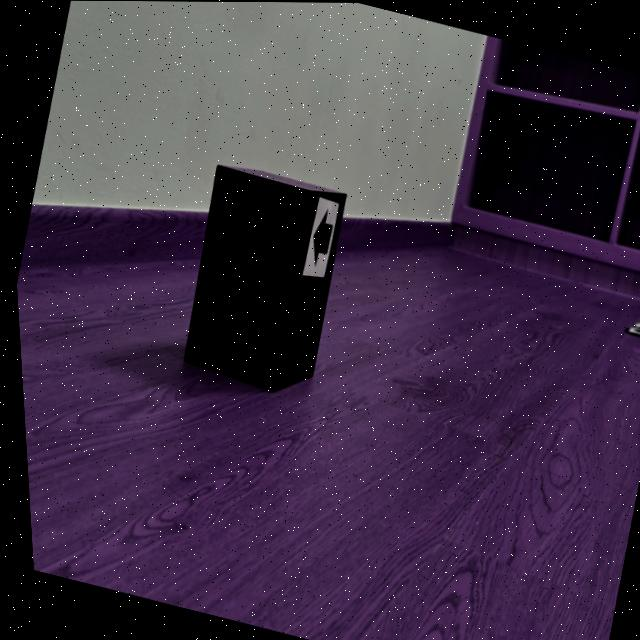LEFT: (309, 212, 330, 263)
